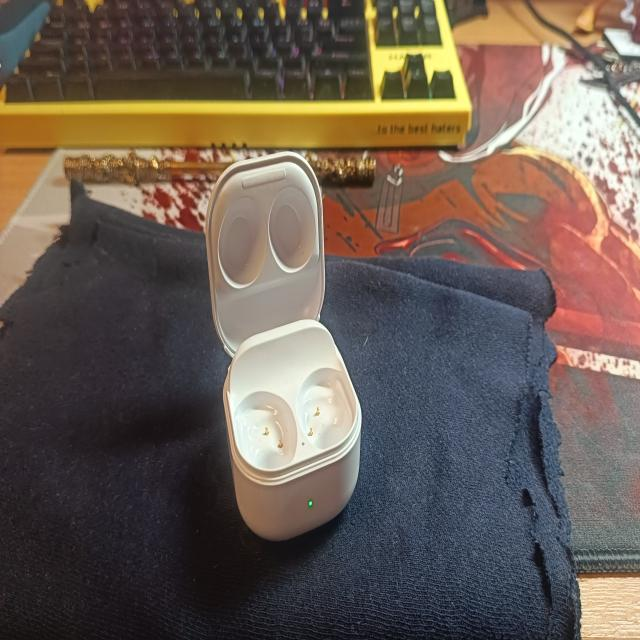headphones: (202, 147, 364, 542)
